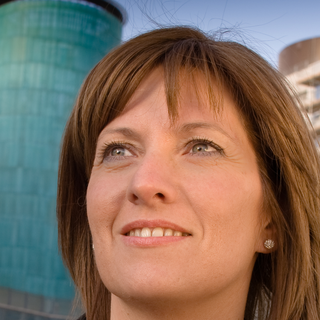eye: (178, 135, 225, 160), (102, 139, 143, 164)
